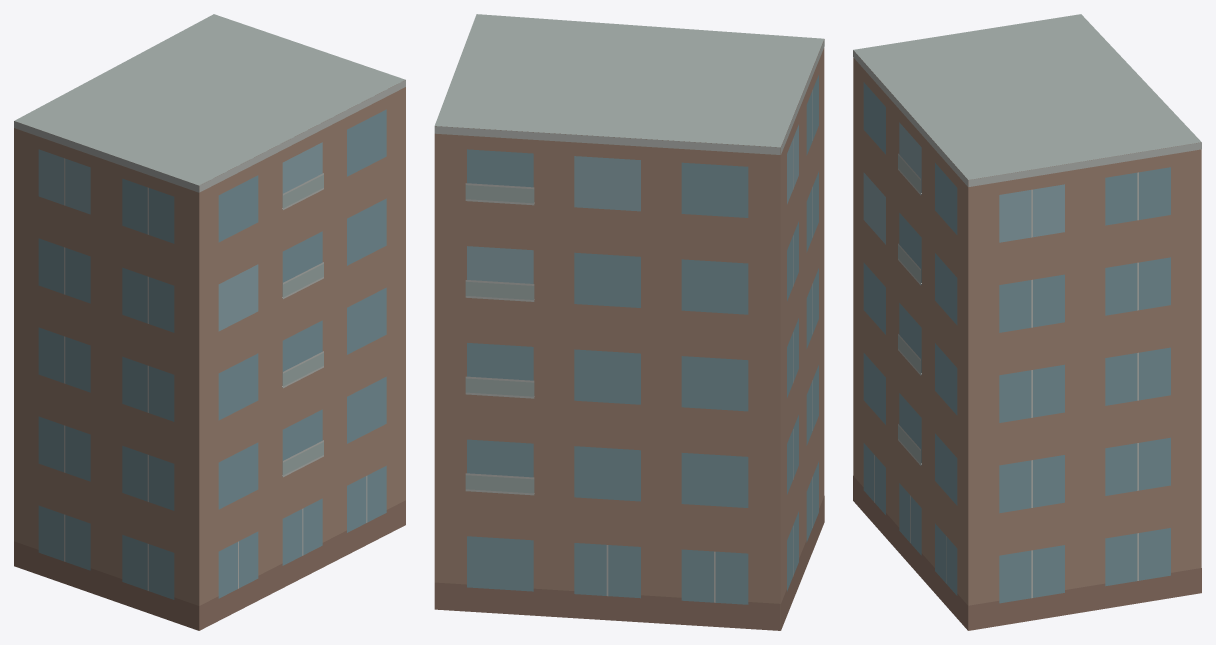
Rendered from residential-2e719ed9-6615-453c-bbc0-9c174f15ed8a.glb.
3 views of the same model, side by side, from view 1: azimuth 30°, elevation 25°; view 2: azimuth 150°, elevation 25°; view 3: azimuth 270°, elevation 25° (orthographic). The views are drawn at different scales.
Parts seen in each view (by area): view 1: residential-2e719ed9-6615-453c-bbc0-9c174f15ed8a.tmp; view 2: residential-2e719ed9-6615-453c-bbc0-9c174f15ed8a.tmp; view 3: residential-2e719ed9-6615-453c-bbc0-9c174f15ed8a.tmp.
Part boxes in pixels (box(x1,y1,x2,y2)): residential-2e719ed9-6615-453c-bbc0-9c174f15ed8a.tmp: box(14, 14, 405, 630); residential-2e719ed9-6615-453c-bbc0-9c174f15ed8a.tmp: box(434, 14, 824, 630); residential-2e719ed9-6615-453c-bbc0-9c174f15ed8a.tmp: box(853, 14, 1201, 630).
Size of the model in its own units: 12.05 by 15.25 by 10.7.
